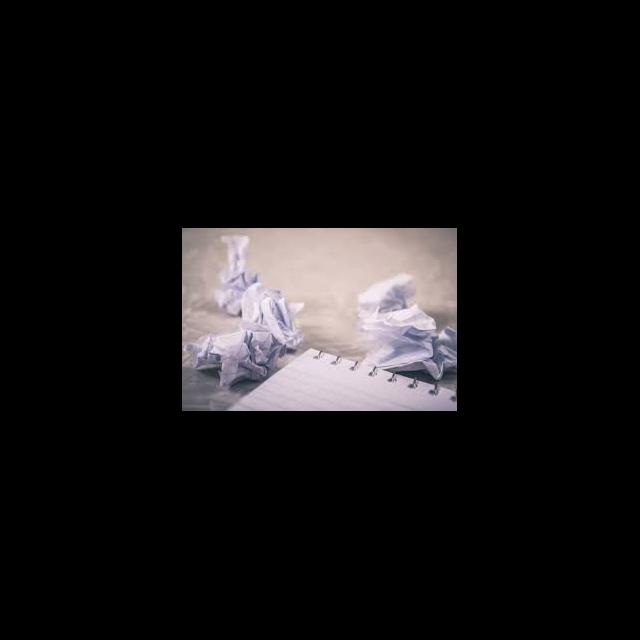paper: (226, 348, 456, 410), (359, 274, 456, 381), (182, 326, 286, 386), (242, 282, 306, 348), (216, 236, 260, 316)
